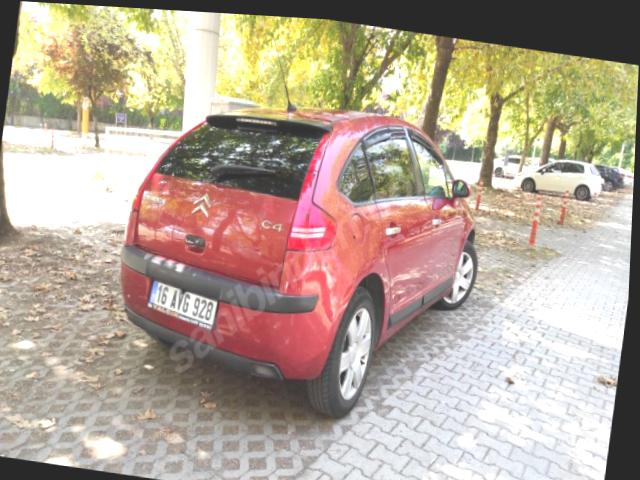plaka: (148, 281, 217, 328)
